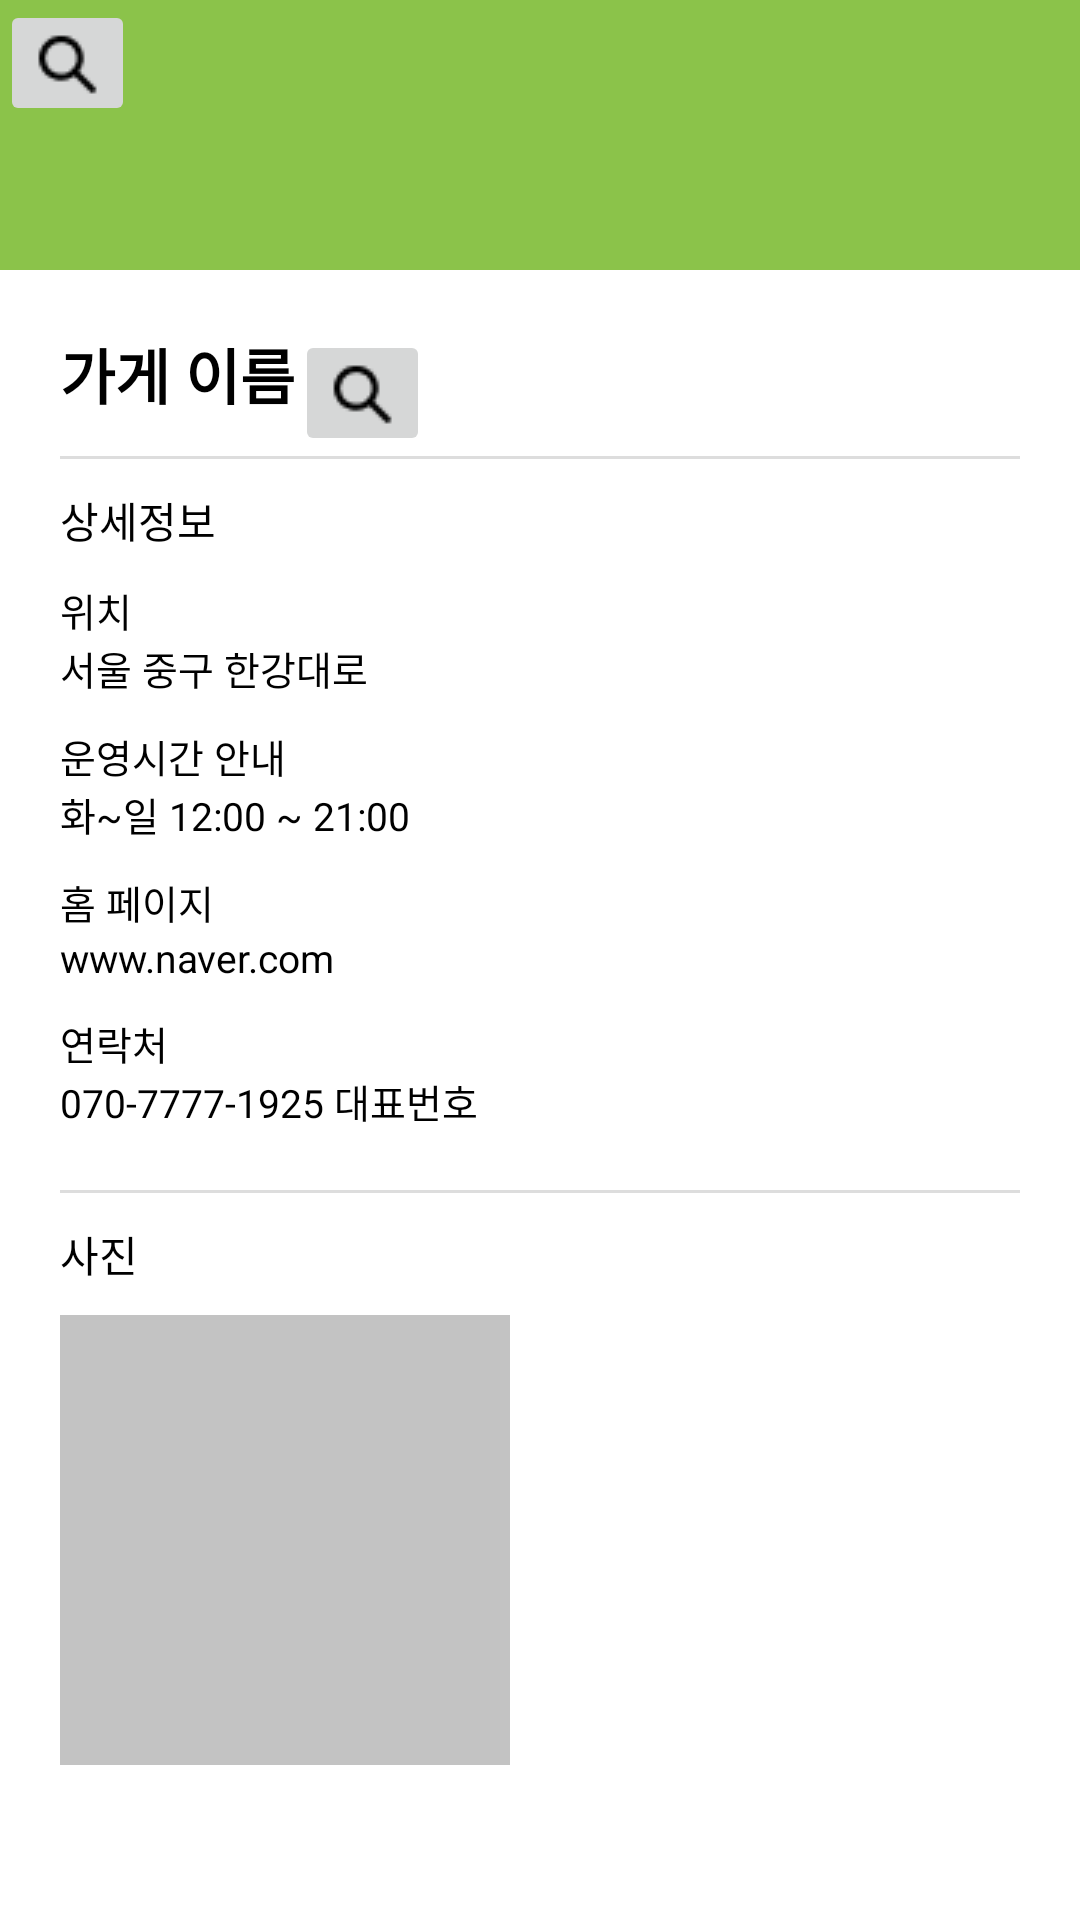

Icons on this 1080 x 1920 Android screen, each with the point to tap as (x,y):
map search: (67,63), (362,393)
